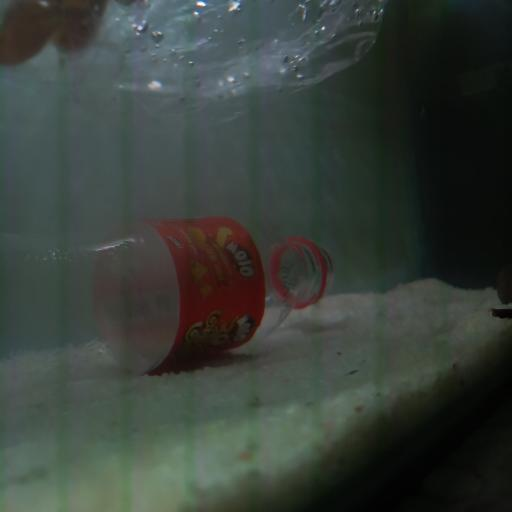plastic_bag: (6, 1, 428, 117)
plastic_bottle: (0, 218, 334, 375)
